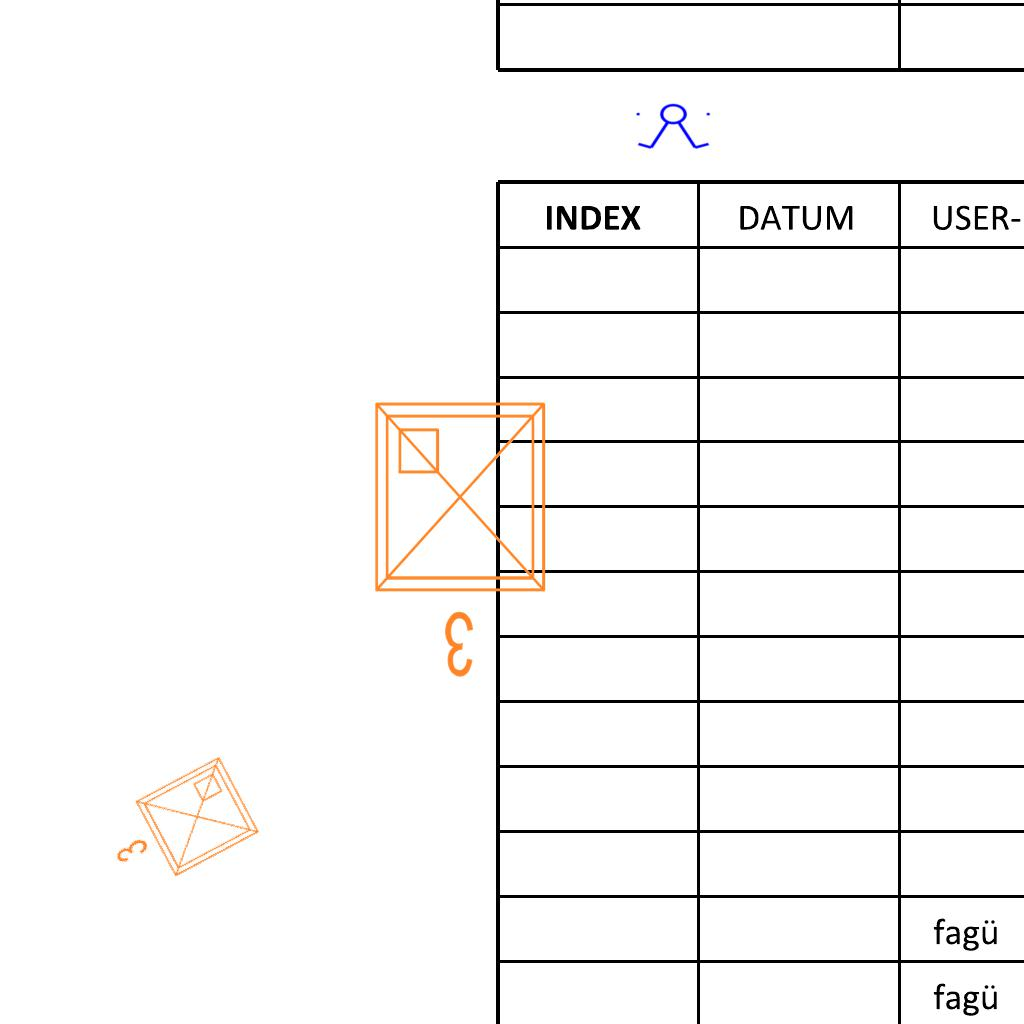Einbaudownlights_LED_Konferenzraeume: (360, 388, 568, 688), (89, 746, 271, 910)
Serienschalter: (632, 103, 716, 151)
